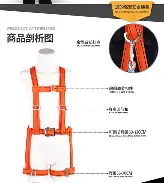safety belt: (19, 64, 84, 182)
safety belt2: (17, 62, 90, 180)
